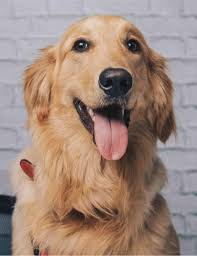not_defined: (53, 35, 173, 151)
